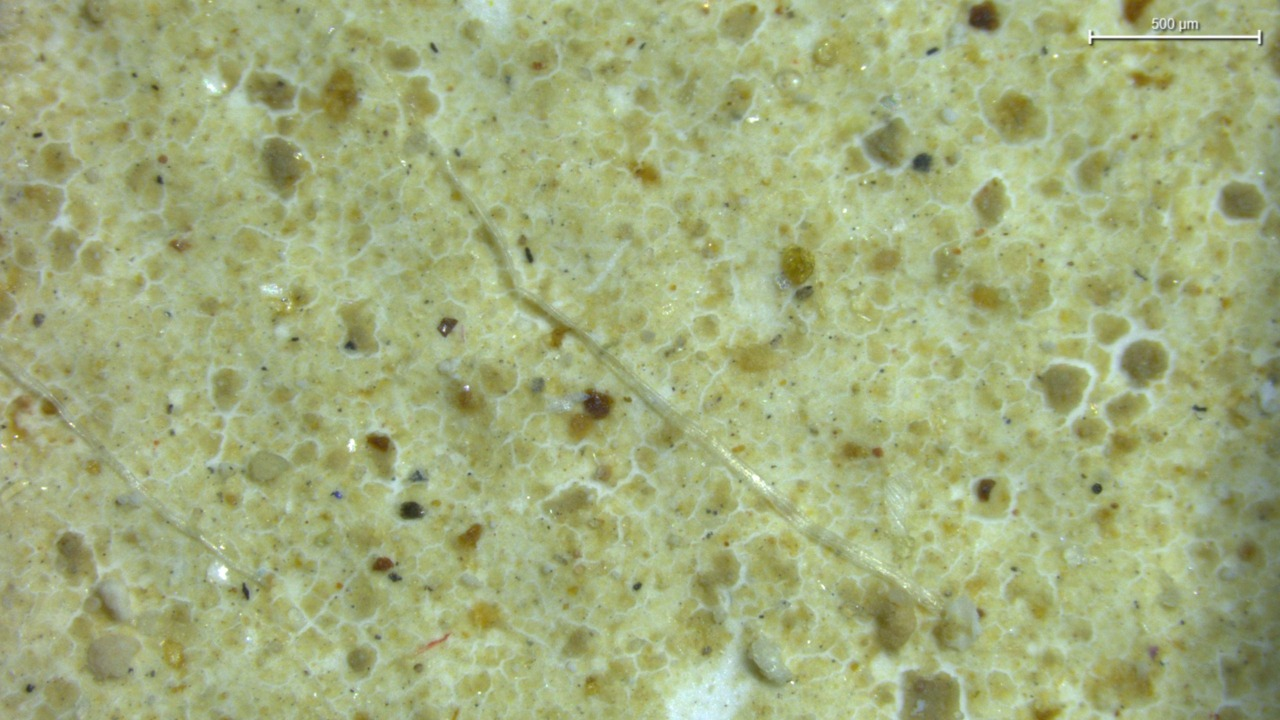microplastic_fragment: (87, 633, 140, 680), (747, 636, 792, 685), (95, 579, 132, 621)
